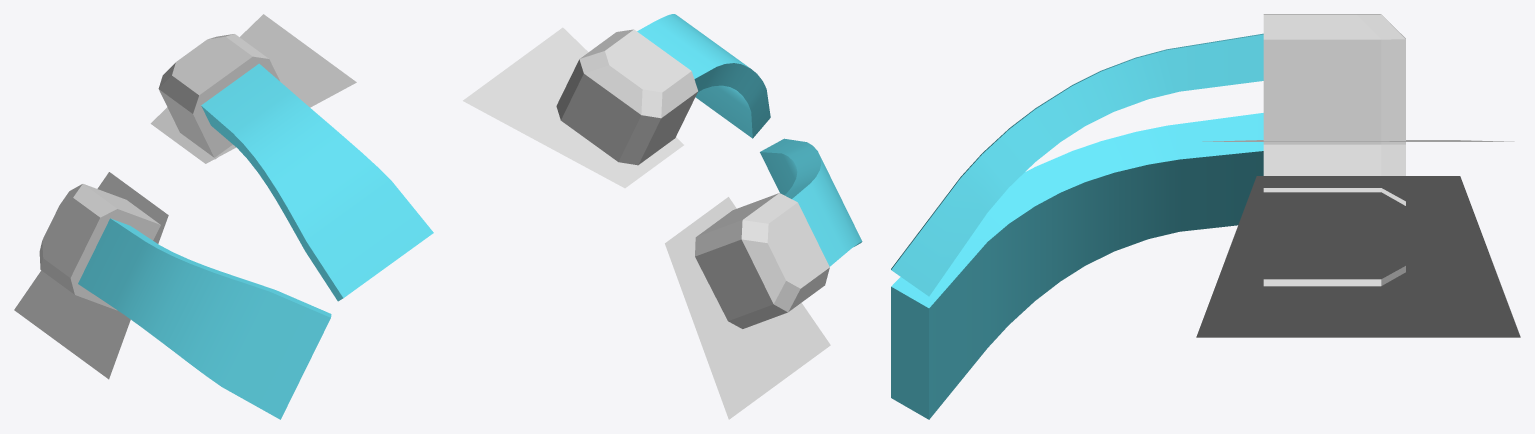
The model's file is Mod_Pauldron_R_Snail2.fbx.
3 views of the same model, side by side, from view 1: azimuth 30°, elevation 25°; view 2: azimuth 150°, elevation 25°; view 3: azimuth 270°, elevation 25° (orthographic). The views are drawn at different scales.
Parts seen in each view (by area): view 1: Mod_Pauldron_R_Snail2; view 2: Mod_Pauldron_R_Snail2; view 3: Mod_Pauldron_R_Snail2.
Boxes of the visible parts, box(x1,y1,x2,y2) form: Mod_Pauldron_R_Snail2: box(14, 14, 433, 419); Mod_Pauldron_R_Snail2: box(463, 14, 862, 419); Mod_Pauldron_R_Snail2: box(891, 14, 1520, 419).
Size of the model in its own units: 235 by 227 by 280.
